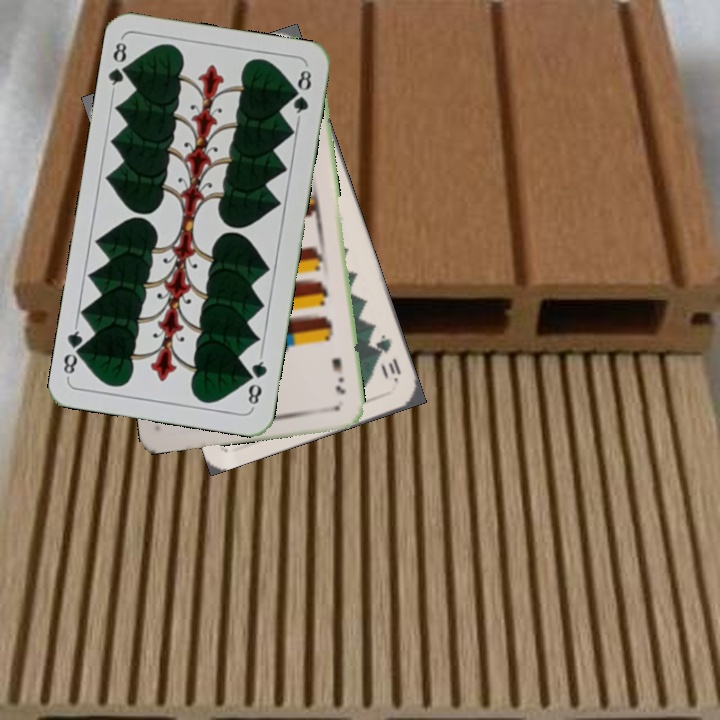E7: (328, 354, 347, 396)
G10: (370, 330, 404, 385)
G8: (104, 35, 134, 94), (243, 352, 270, 411)
